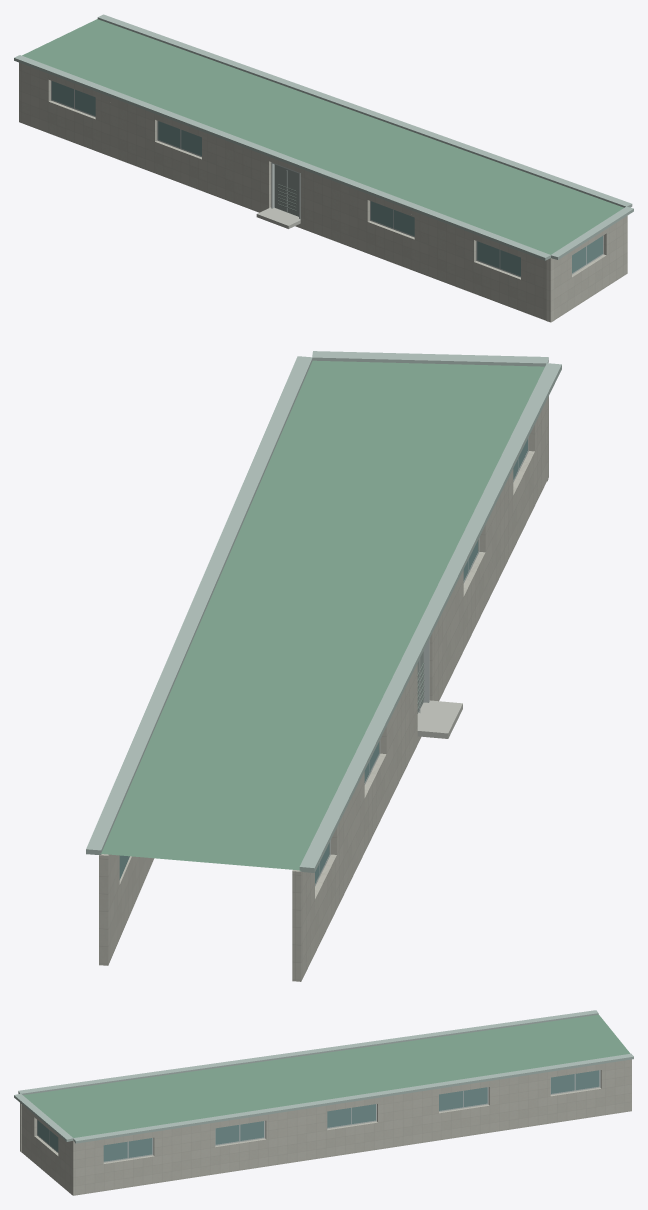
3 renders of one model, top to bottom at view 1: azimuth 30°, elevation 25°; view 2: azimuth 150°, elevation 25°; view 3: azimuth 270°, elevation 25°, orthographic. The views are drawn at different scales.
Visible parts, largest first — view 1: westside__roof, westside__wall, westside__rib, westside__glass, westside__door, westside__frame, westside__threshold-entry; view 2: westside__roof, westside__wall, westside__rib, westside__threshold-entry, westside__glass; view 3: westside__wall, westside__roof, westside__rib, westside__glass, westside__frame.
Part boxes in pixels (x1,y1,x2,y2): westside__roof: (22, 19, 623, 254); westside__wall: (19, 62, 627, 322); westside__rib: (14, 14, 633, 260); westside__glass: (52, 81, 602, 276); westside__door: (274, 164, 298, 216); westside__frame: (51, 80, 603, 277); westside__threshold-entry: (256, 207, 300, 228); westside__roof: (100, 360, 544, 870); westside__wall: (99, 396, 548, 981); westside__rib: (86, 351, 561, 872); westside__threshold-entry: (417, 700, 462, 738); westside__glass: (119, 439, 527, 883); westside__wall: (20, 1059, 631, 1195); westside__roof: (23, 1014, 630, 1137); westside__rib: (14, 1010, 633, 1143); westside__glass: (37, 1070, 599, 1161); westside__frame: (37, 1070, 600, 1162).
Bounding box in the file's own units: 16.1 × 3.28 × 32.18.
8 materials, 1 textured.
